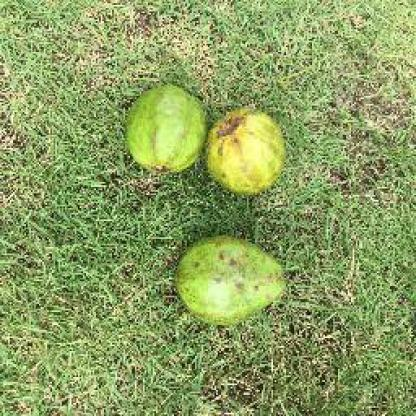guava: (176, 238, 286, 324), (206, 106, 288, 202), (127, 86, 213, 177)
